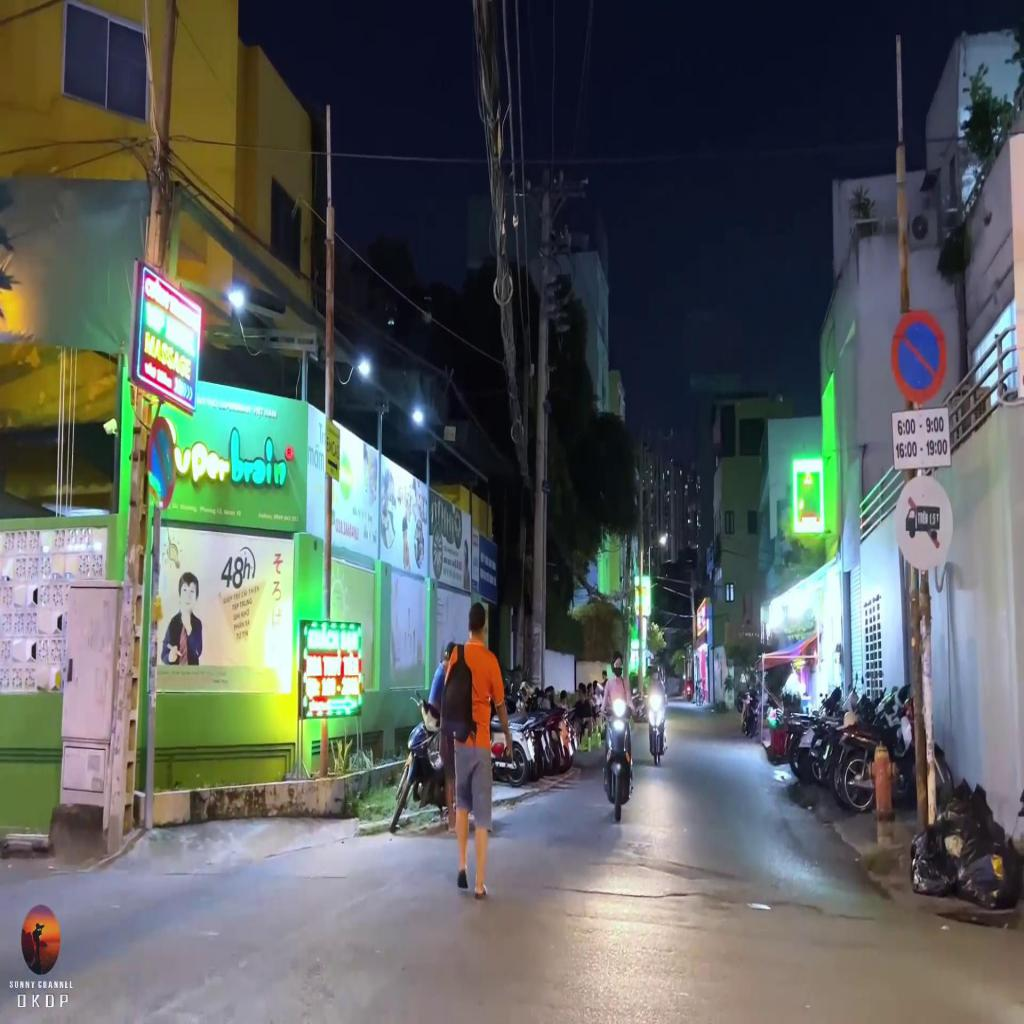cam_do_xe: (890, 308, 947, 404)
cam_o_to_tai: (893, 474, 953, 570)
khac: (892, 407, 950, 470)
